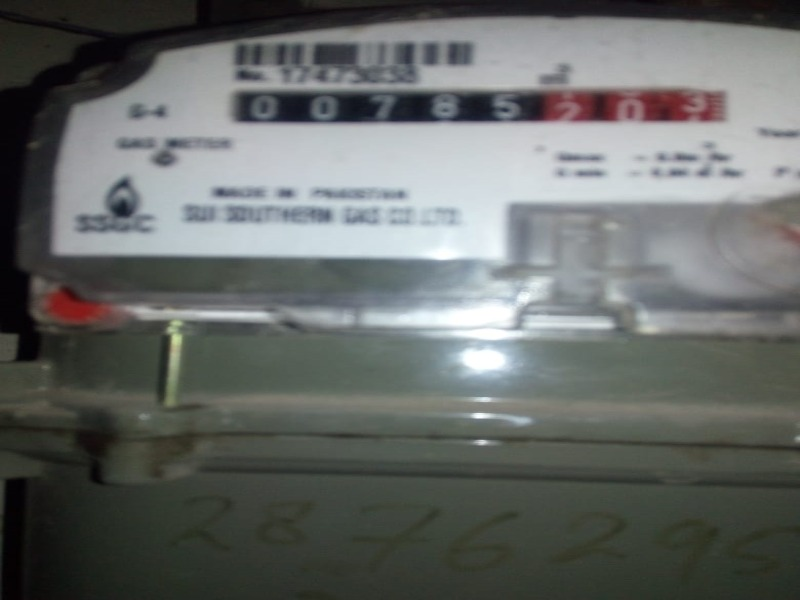ssgc: (227, 82, 730, 127)
